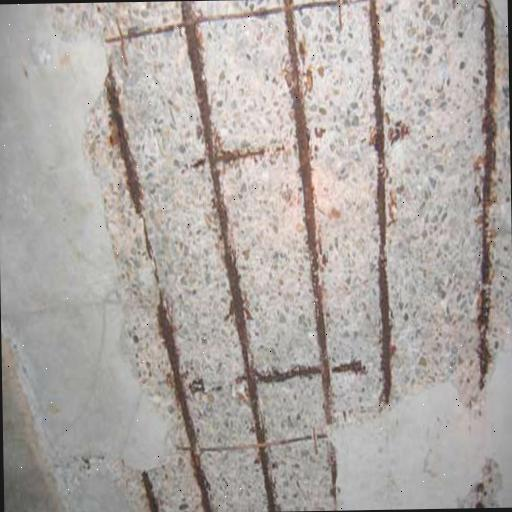spalling: (52, 0, 512, 512), (457, 456, 504, 508)
